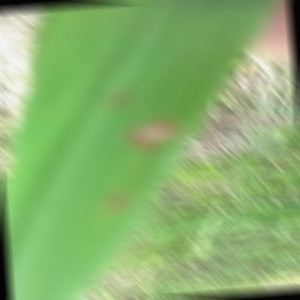Brown_Spot: (119, 105, 191, 154)
